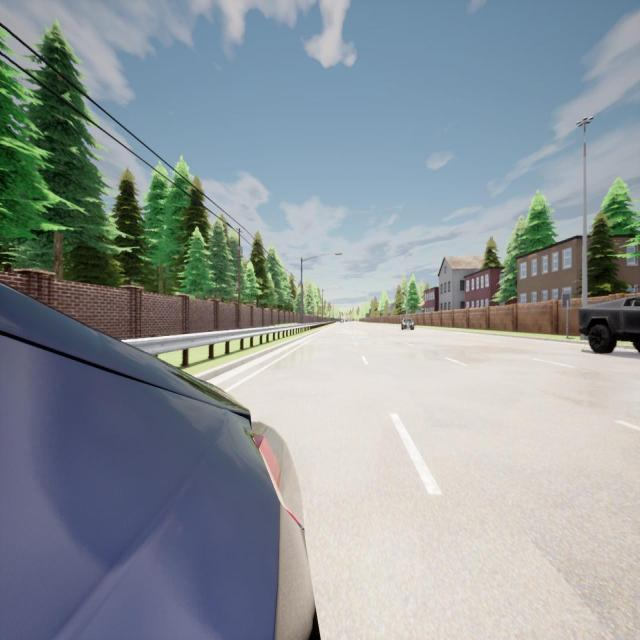Traffic_Signs: (563, 294, 571, 308)
Vehicle: (0, 284, 321, 637), (578, 292, 640, 353), (400, 317, 415, 333), (340, 319, 344, 323)
